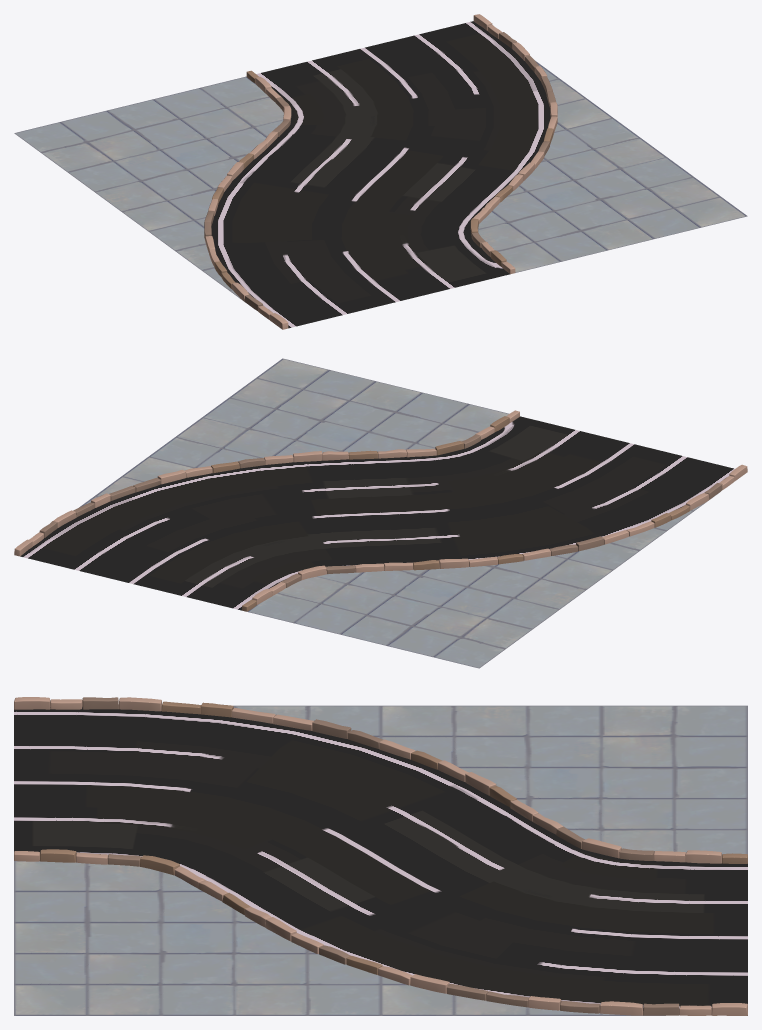
File: CityRoad_shortChicaneWide.fbx
3 views of the same model, one above another, from view 1: azimuth 30°, elevation 25°; view 2: azimuth 150°, elevation 25°; view 3: azimuth 270°, elevation 25° (orthographic). The views are drawn at different scales.
Visible parts, largest first — view 1: CityRoad_shortChicaneWide_mesh; view 2: CityRoad_shortChicaneWide_mesh; view 3: CityRoad_shortChicaneWide_mesh.
Part boxes in pixels (left/top/right/bottom): CityRoad_shortChicaneWide_mesh: left=14, top=14, right=747, bottom=329; CityRoad_shortChicaneWide_mesh: left=14, top=358, right=747, bottom=668; CityRoad_shortChicaneWide_mesh: left=14, top=697, right=747, bottom=1015.
Bounding box in the file's own units: 2000 × 28.55 × 2001.
